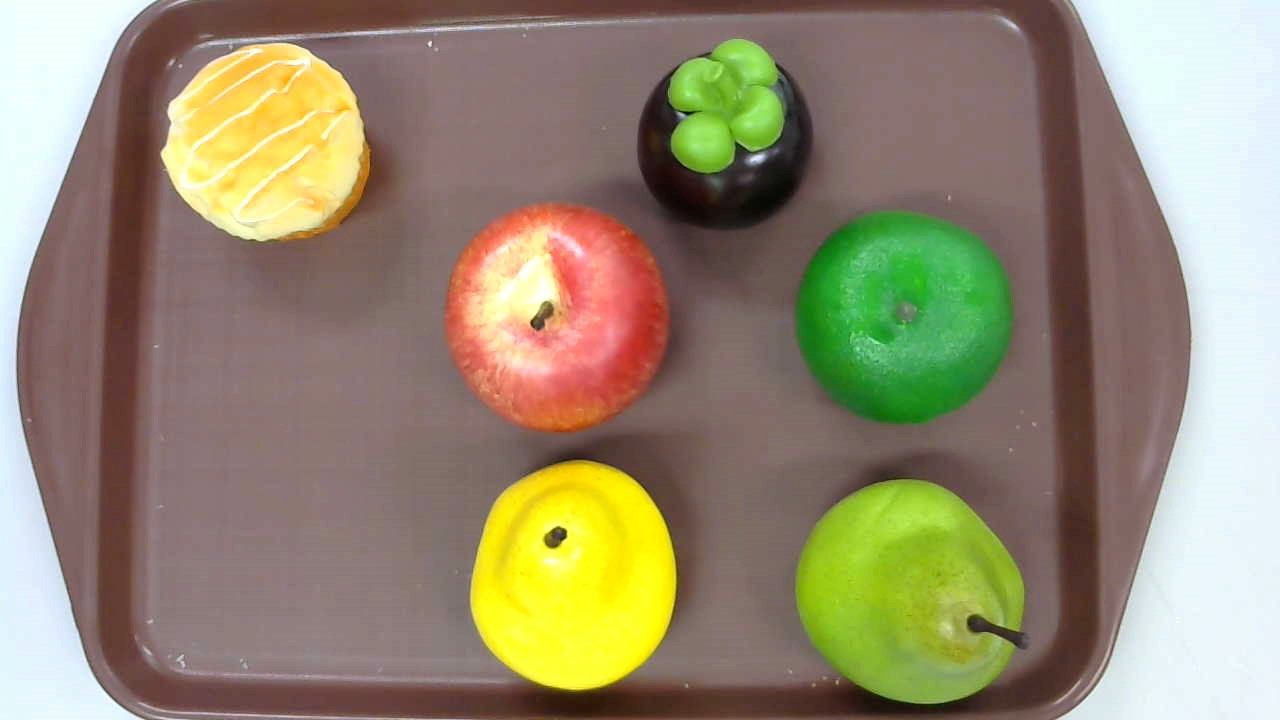cupcake: (160, 43, 371, 243)
green orange: (796, 211, 1010, 424)
green pear: (793, 478, 1028, 704)
mangosteen: (635, 40, 813, 230)
red apple: (443, 201, 672, 435)
yellow pear: (469, 459, 679, 691)
